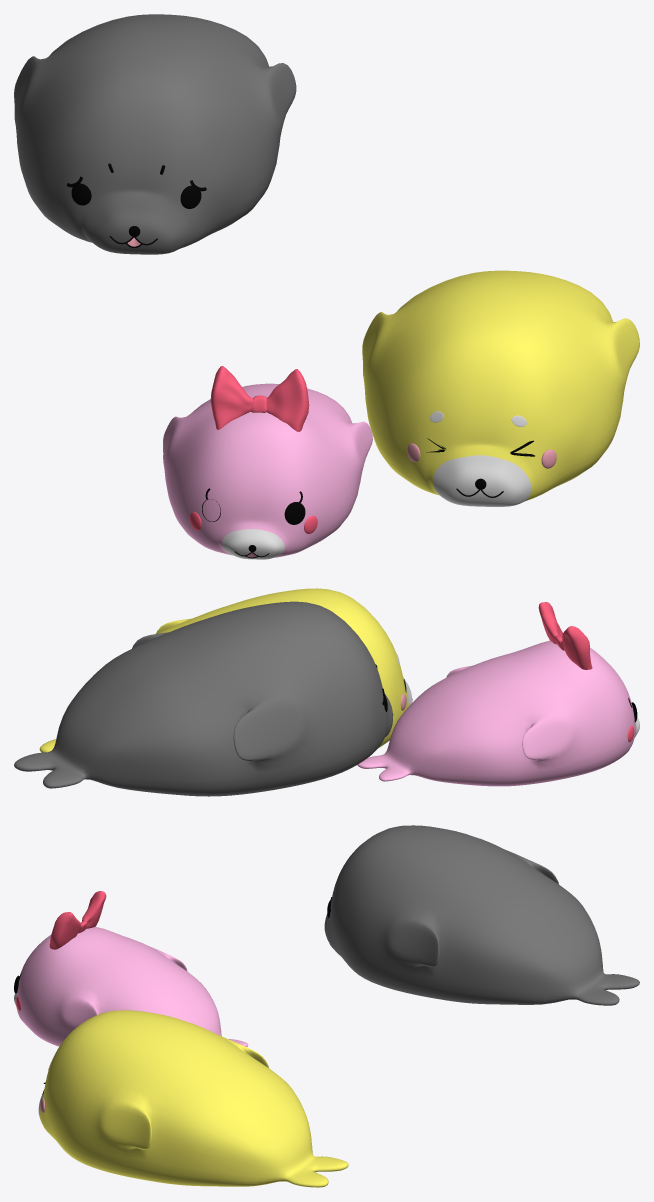
Rendered from seal_toys.glb.
The picture shows the model from 3 angles, top to bottom: view 1: azimuth 30°, elevation 25°; view 2: azimuth 150°, elevation 25°; view 3: azimuth 270°, elevation 25°; orthographic projection. The views are drawn at different scales.
Visible parts, largest first — view 1: Object_2, Object_5, Object_3, Object_8, Object_4, Object_6; view 2: Object_2, Object_3, Object_5, Object_4; view 3: Object_2, Object_5, Object_3, Object_4.
Part boxes in pixels (left/top/right/bottom): Object_2: left=14, top=14, right=296, bottom=254; Object_5: left=362, top=270, right=639, bottom=500; Object_3: left=163, top=383, right=372, bottom=557; Object_8: left=222, top=411, right=531, bottom=559; Object_4: left=190, top=366, right=317, bottom=533; Object_6: left=66, top=163, right=534, bottom=558; Object_2: left=14, top=601, right=392, bottom=796; Object_3: left=357, top=640, right=636, bottom=786; Object_5: left=39, top=588, right=408, bottom=752; Object_4: left=538, top=602, right=634, bottom=742; Object_2: left=324, top=825, right=639, bottom=1005; Object_5: left=40, top=1010, right=348, bottom=1187; Object_3: left=15, top=926, right=248, bottom=1046; Object_4: left=16, top=891, right=106, bottom=1010.
Bounding box in the file's own units: 4.68 × 2.72 × 6.28.
